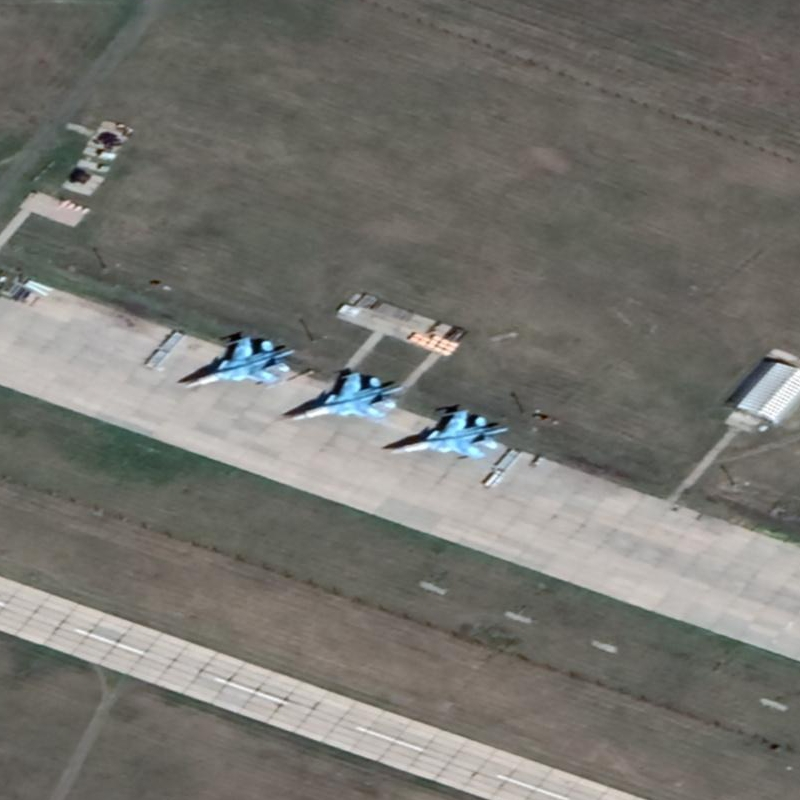A19: (384, 406, 513, 463), (280, 368, 406, 424), (182, 332, 297, 393)
